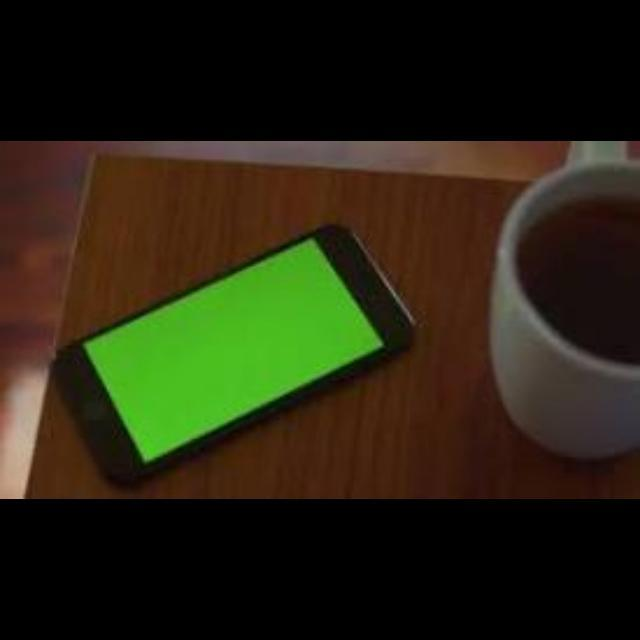Phone: (54, 222, 426, 478)
